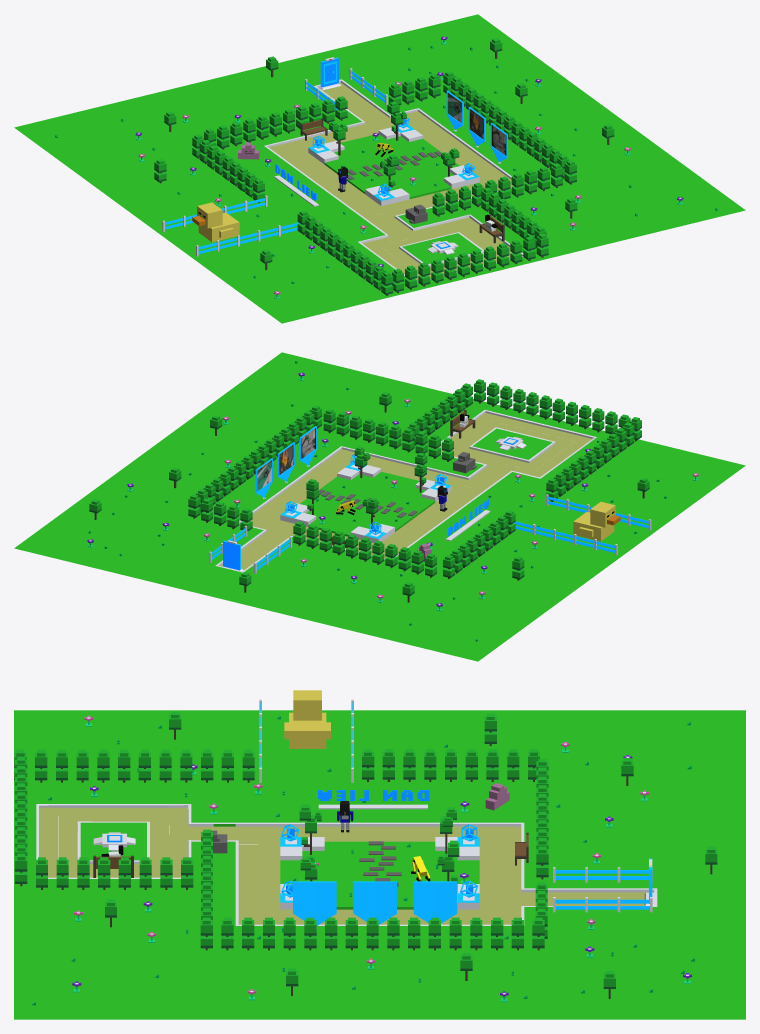
Rendered from portfolio_4.0.glb.
3 renders of one model, top to bottom at view 1: azimuth 30°, elevation 25°; view 2: azimuth 150°, elevation 25°; view 3: azimuth 270°, elevation 25°, orthographic. The views are drawn at different scales.
Visible parts, largest first — view 1: Ground, Portal, Name, Project 3, Project 1, Project 2; view 2: Ground, Name, Project 1, Project 2, Project 3; view 3: Ground, Project 1, Project 3, Project 2, Name.
Part boxes in pixels (x1=…): Ground: x1=14, y1=14, x2=745, y2=323; Portal: x1=319, y1=57, x2=341, y2=90; Name: x1=274, y1=164, x2=318, y2=206; Project 3: x1=490, y1=123, x2=507, y2=162; Project 1: x1=446, y1=90, x2=463, y2=129; Project 2: x1=468, y1=107, x2=485, y2=145; Ground: x1=14, y1=352, x2=745, y2=661; Name: x1=445, y1=498, x2=490, y2=541; Project 1: x1=255, y1=458, x2=272, y2=497; Project 2: x1=277, y1=442, x2=294, y2=481; Project 3: x1=299, y1=426, x2=316, y2=465; Ground: x1=14, y1=690, x2=745, y2=1019; Project 1: x1=413, y1=881, x2=457, y2=923; Project 3: x1=293, y1=881, x2=336, y2=925; Project 2: x1=353, y1=881, x2=396, y2=924; Name: x1=318, y1=790, x2=429, y2=809.
Bounding box in the file's own units: 252 × 20.81 × 252.
28 materials, 3 textured.
